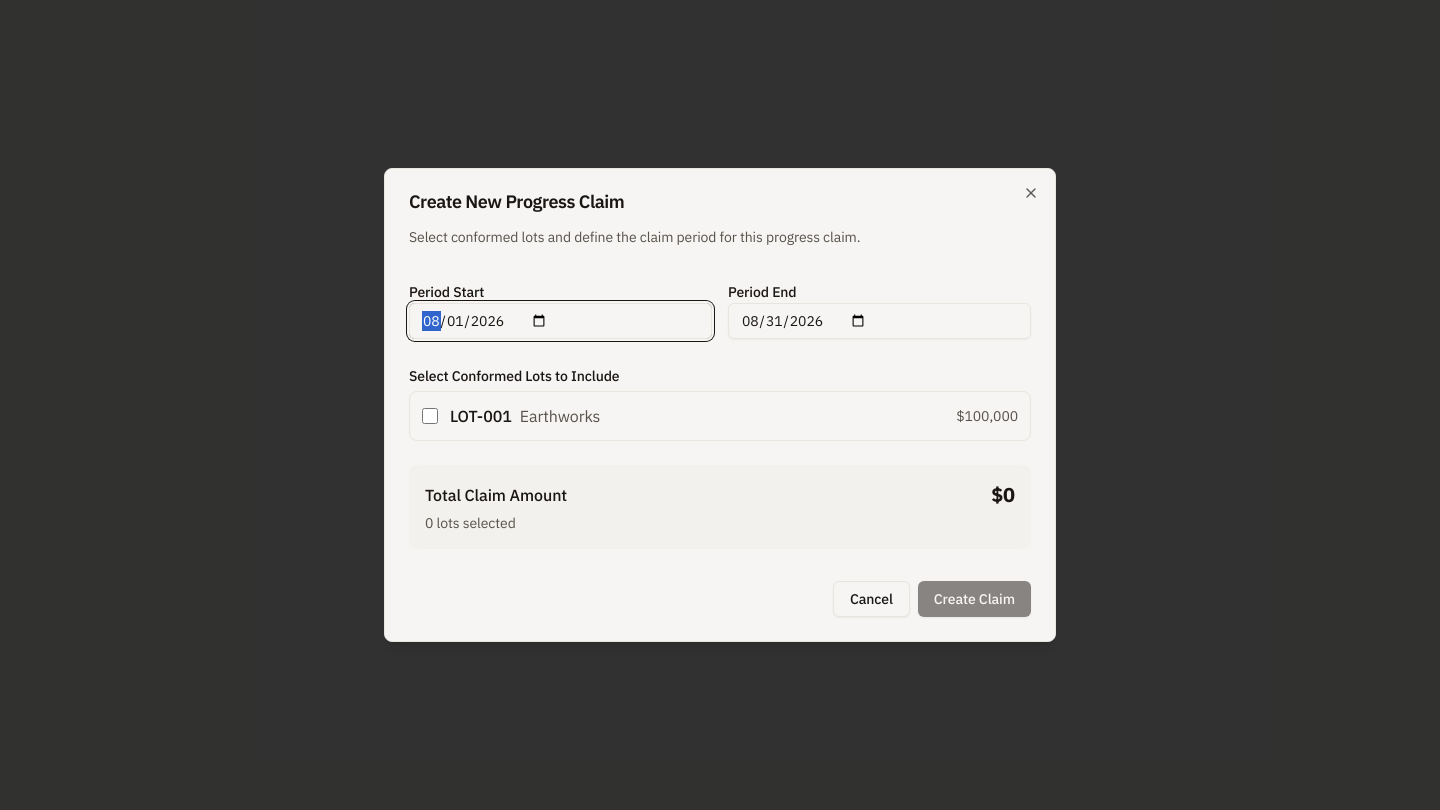
Test case: CreateClaimModal claim period validation › shows an inline error and disables Create Claim when the period ends before it starts
Expected: the text "LOT-001" is shown, [450,406,512,426]
Click the checkbox named "Select LOT-001". click: (430, 416)
box: [422,408,438,424]
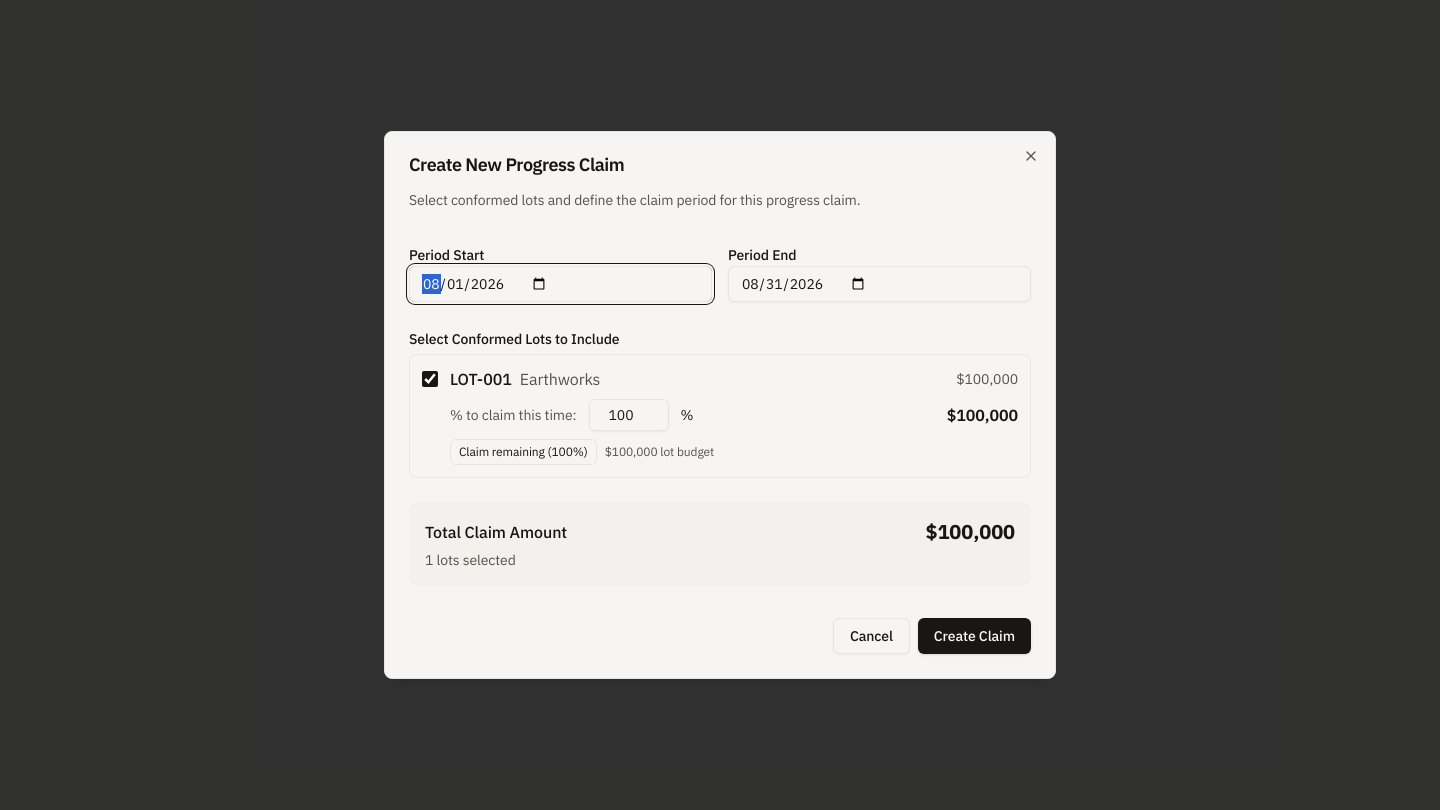
Expected: the button "Create Claim" is enabled, [918,618,1031,654]
Type "2026-06-10" into the date field labelled "Period Start". click: (560, 284)
box: [409,266,712,302]
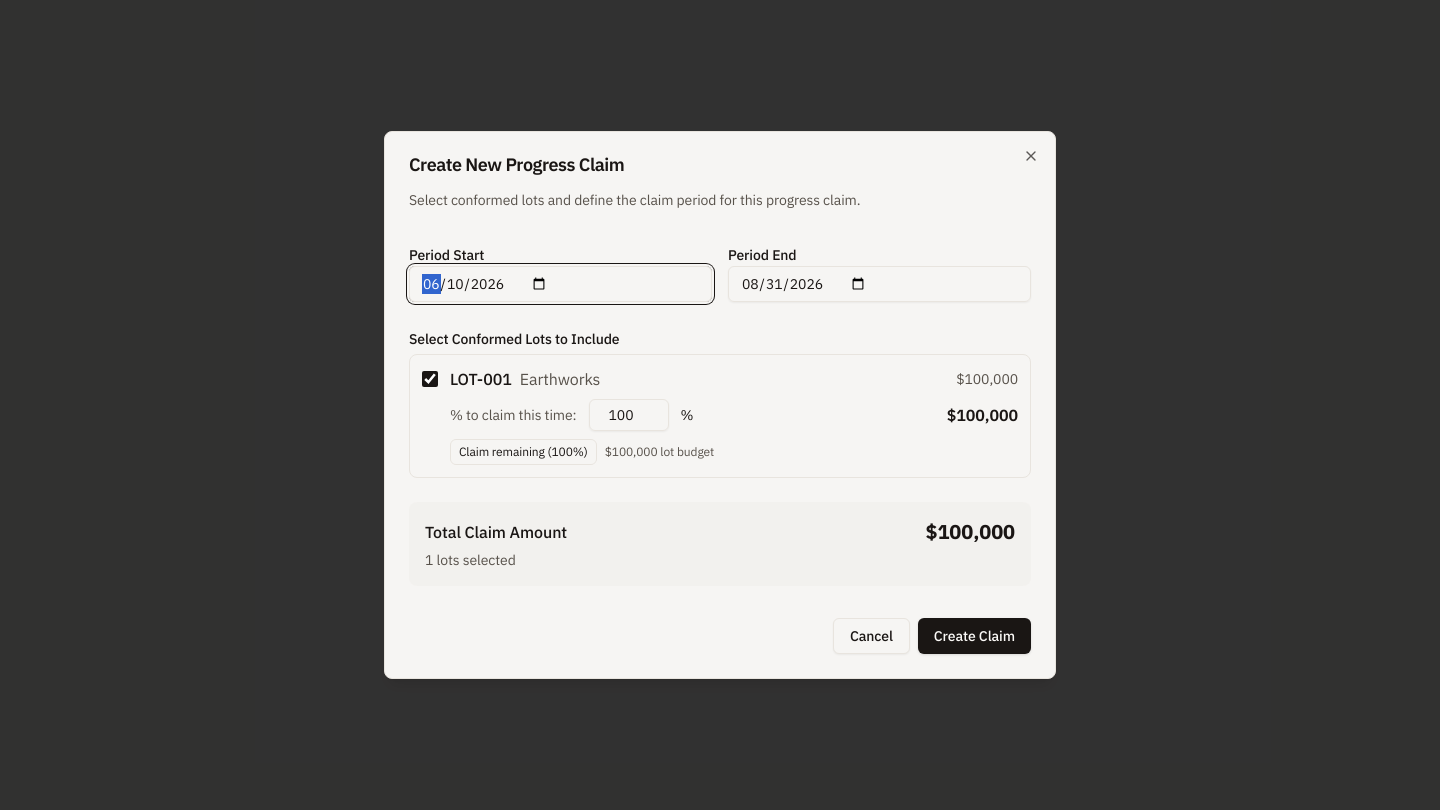
Type "2026-06-01" into the date field labelled "Period End". click: (880, 284)
box: [728,266,1031,302]
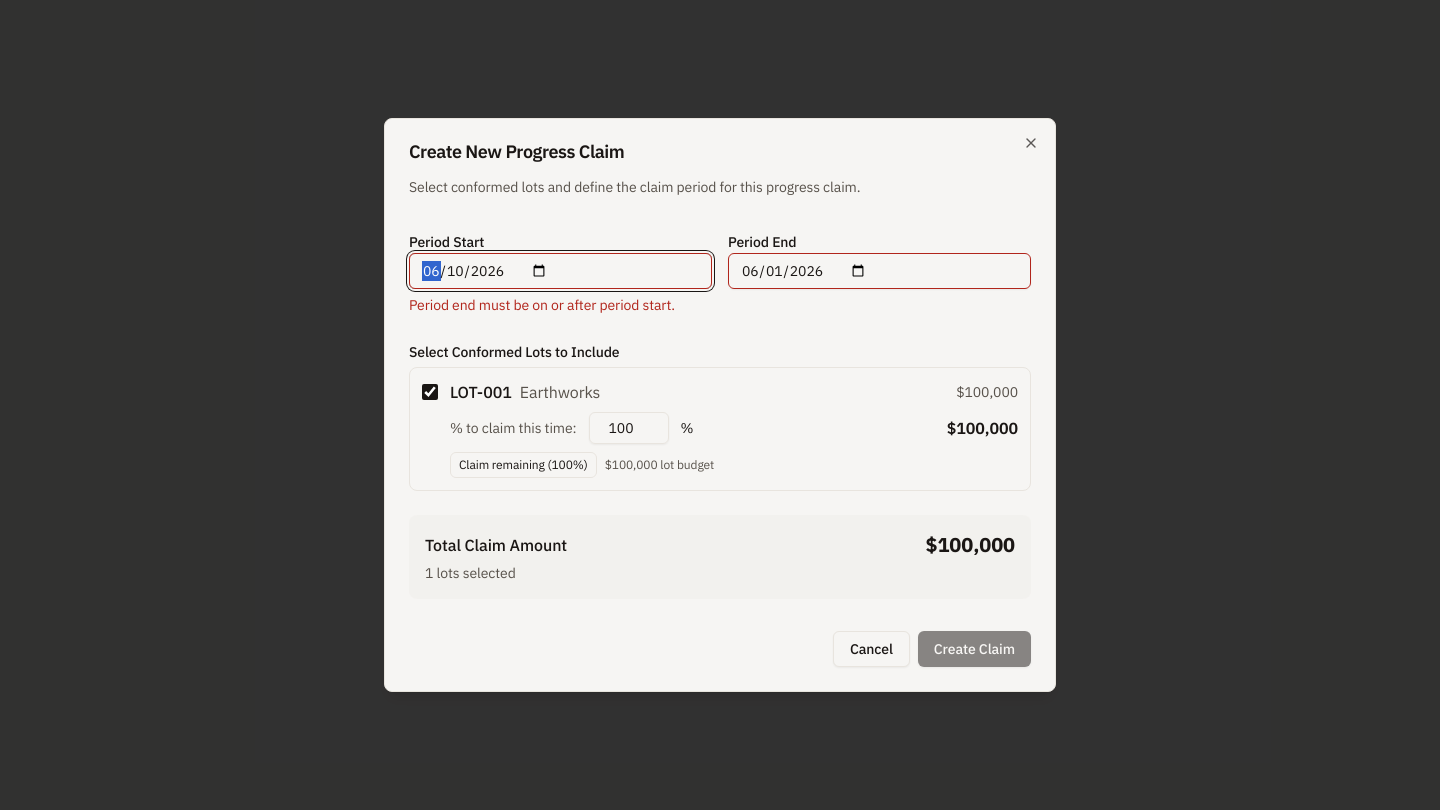
Expected: the message reads "Period end must be on or after period start.", [409,296,675,314]
Expected: the button "Create Claim" is disabled, [918,631,1031,667]
